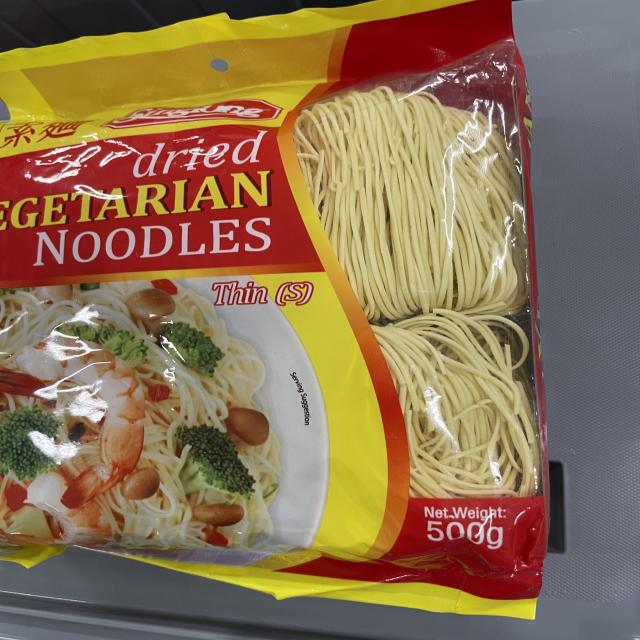object_name: (17, 43, 529, 584)
